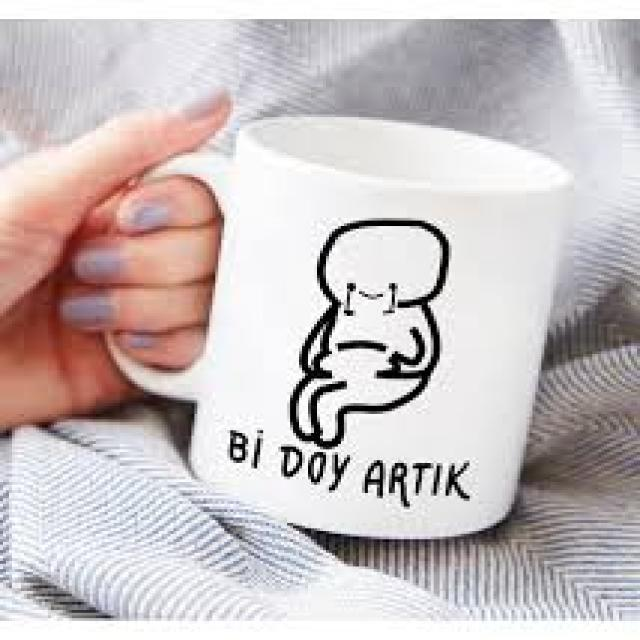taza: (106, 113, 574, 542)
